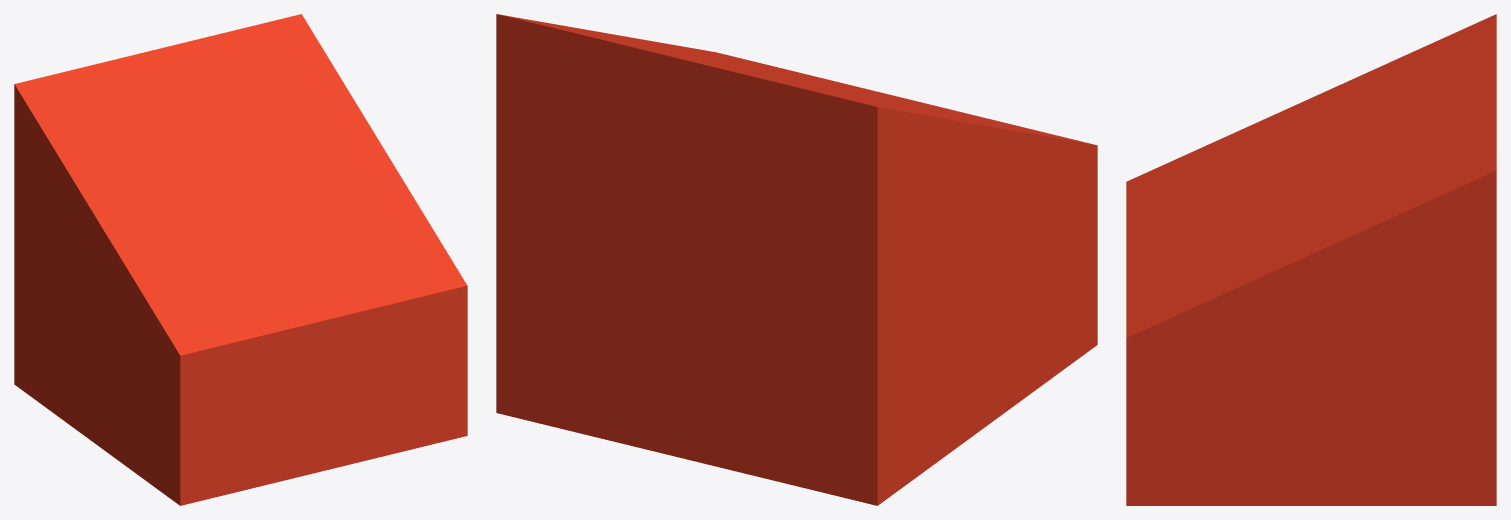
The model's file is r2c2_body_red.gltf.
3 renders of one model, left to right at view 1: azimuth 30°, elevation 25°; view 2: azimuth 150°, elevation 25°; view 3: azimuth 270°, elevation 25°, orthographic. The views are drawn at different scales.
Visible parts, largest first — view 1: r2c2_body_red; view 2: r2c2_body_red; view 3: r2c2_body_red.
Boxes of the visible parts, bbox=[...] form: r2c2_body_red: bbox=[14, 14, 467, 505]; r2c2_body_red: bbox=[496, 14, 1097, 505]; r2c2_body_red: bbox=[1126, 14, 1496, 505].
Size of what is drawn, in the model's own units: 2 by 2 by 2.
Materials: 1 (1 with a texture image).
